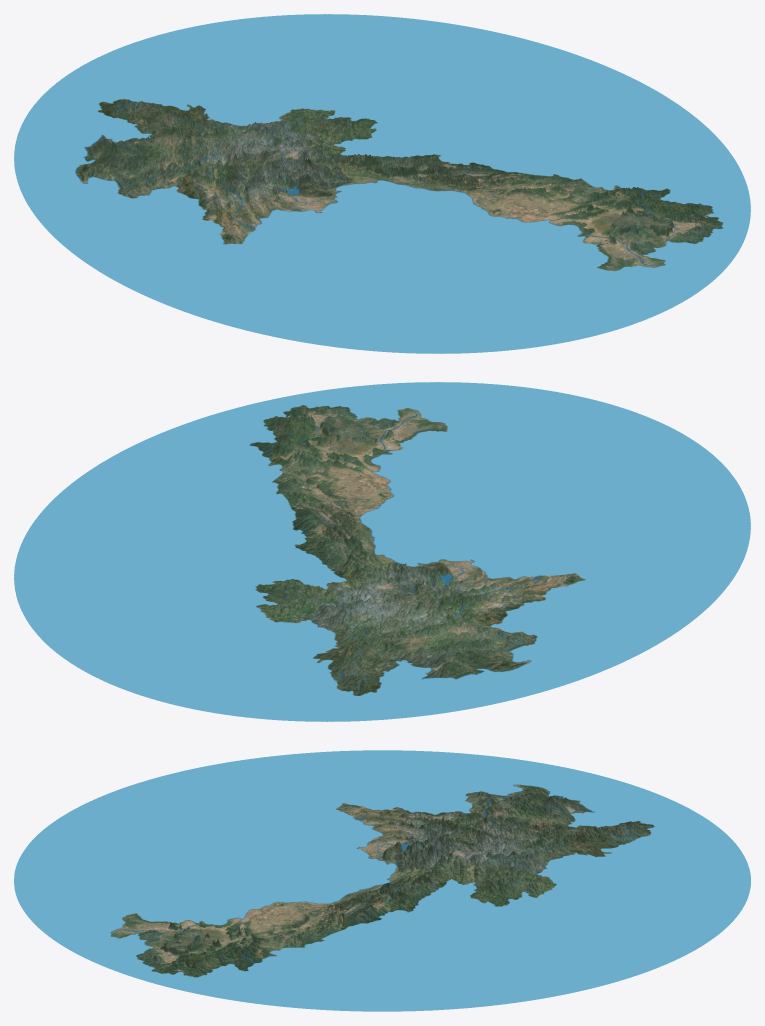
The model's file is LAO-previa-terrain.glb.
3 renders of one model, top to bottom at view 1: azimuth 30°, elevation 25°; view 2: azimuth 150°, elevation 25°; view 3: azimuth 270°, elevation 25°, orthographic. The views are drawn at different scales.
Parts seen in each view (by area): view 1: Laos; view 2: Laos; view 3: Laos.
Boxes of the visible parts, box(x1,y1,x2,y2) form: Laos: box(14, 14, 750, 353); Laos: box(14, 382, 750, 721); Laos: box(14, 750, 750, 1011).
Size of the model in its own units: 2 by 0.0546 by 2.38.
Materials: 1 (1 with a texture image).
